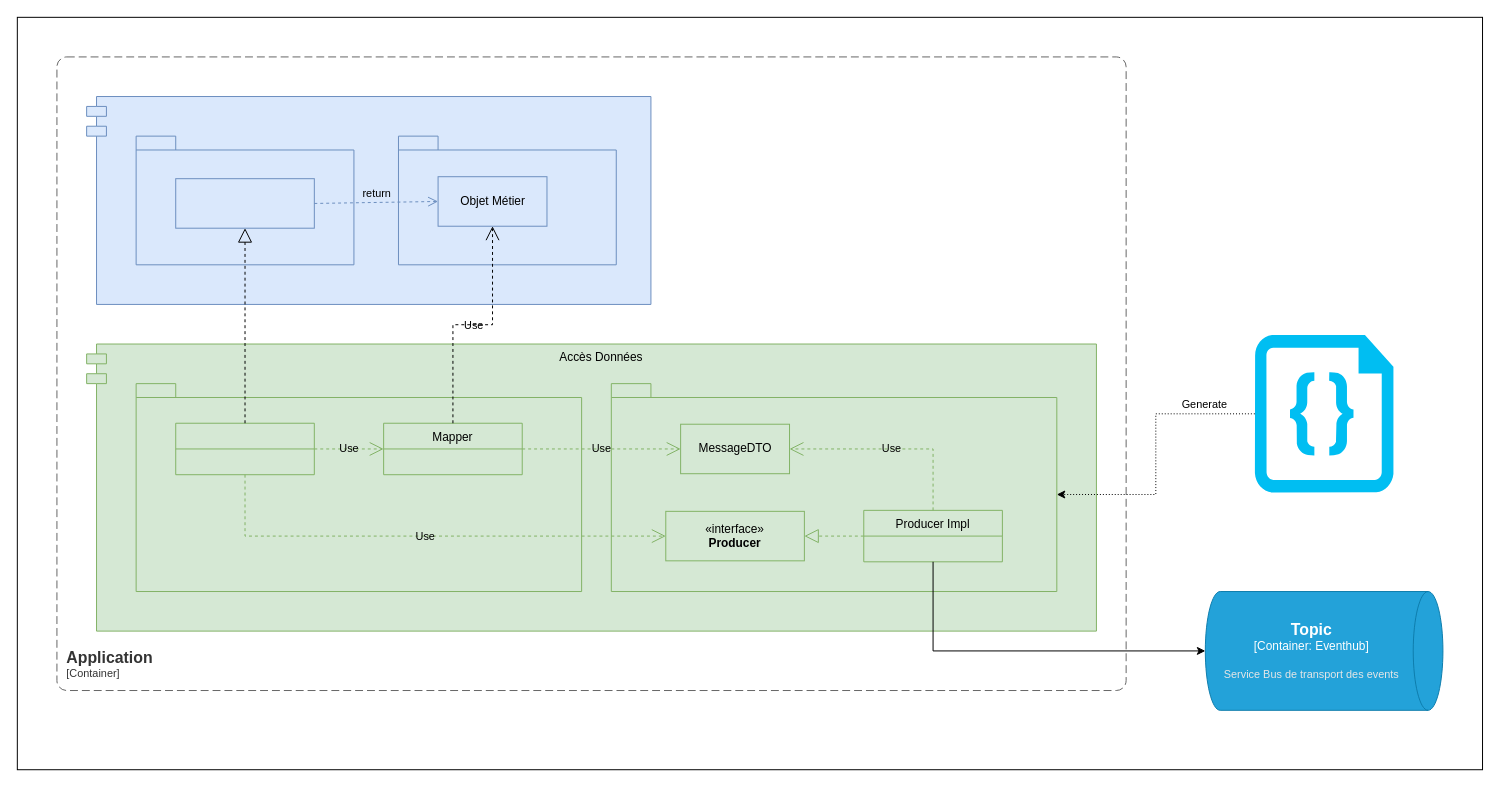
This 1500x787 diagram has some shape labels left out. The shapes that lost their labels are listed below. From the top down, each one's box as (x1, y1, x2, y2) in pixels, then its label:
(175, 178, 314, 228): «interface» Port
(86, 96, 651, 304): Business Domain
(1254, 335, 1393, 492): AsyncAPI Définition
(175, 422, 314, 475): Adapter
